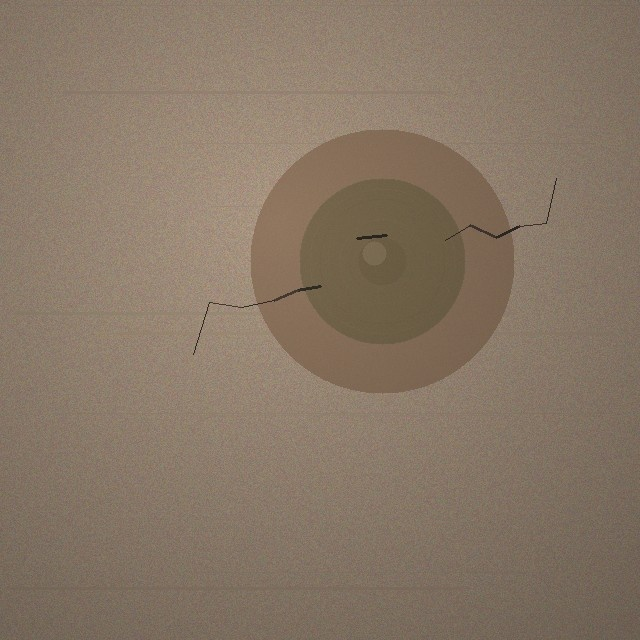crack: (250, 129, 514, 393)
